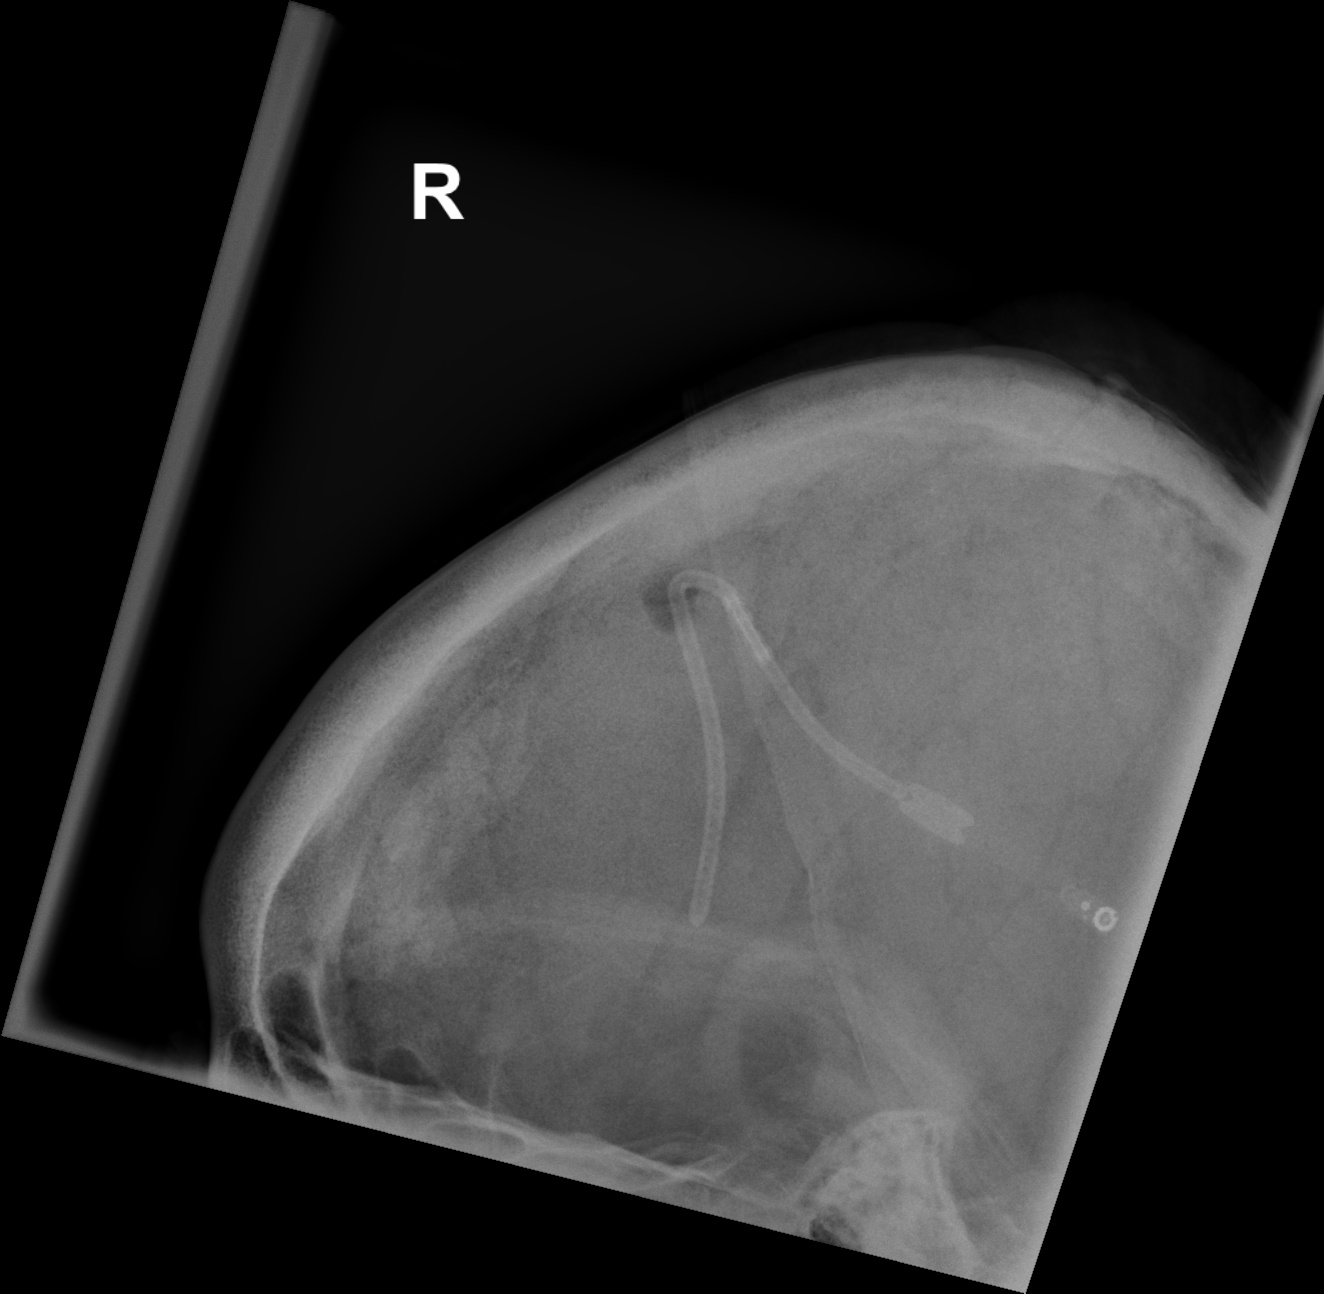Codman Hakim: (1066, 891, 1128, 946)
